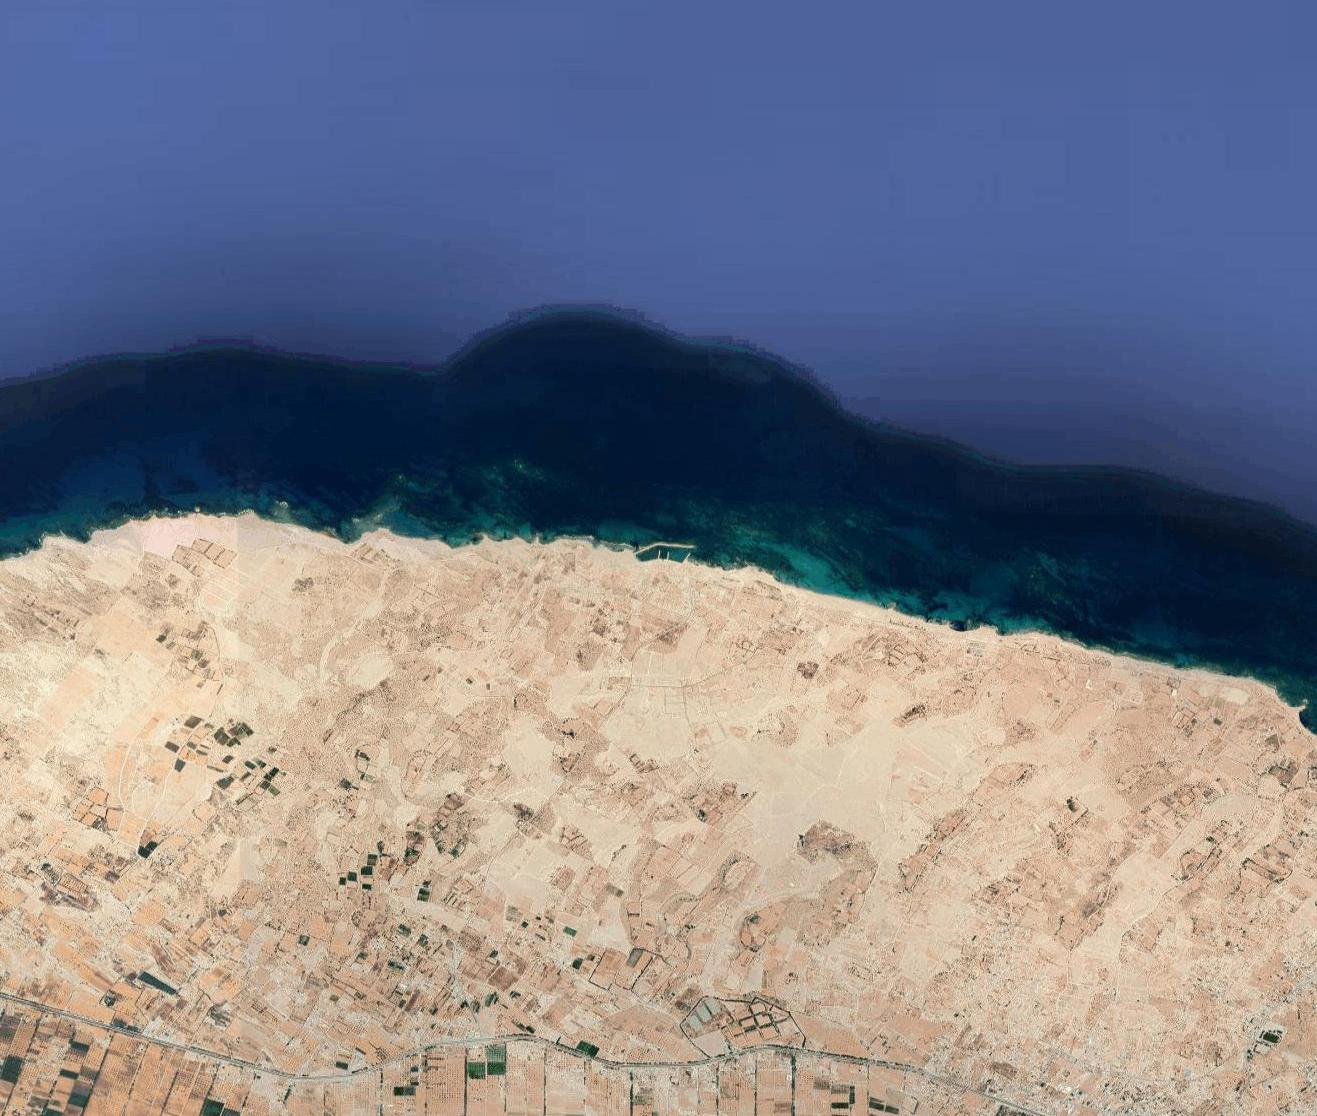harbor: (656, 549, 692, 564)
motorway: (882, 1060, 976, 1094), (366, 1040, 446, 1078), (448, 1029, 569, 1053), (673, 1041, 775, 1069), (777, 1038, 879, 1067), (569, 1046, 671, 1074), (91, 1020, 179, 1050), (183, 1047, 271, 1077), (1, 993, 89, 1023), (269, 1062, 364, 1087), (979, 1091, 1059, 1116)
